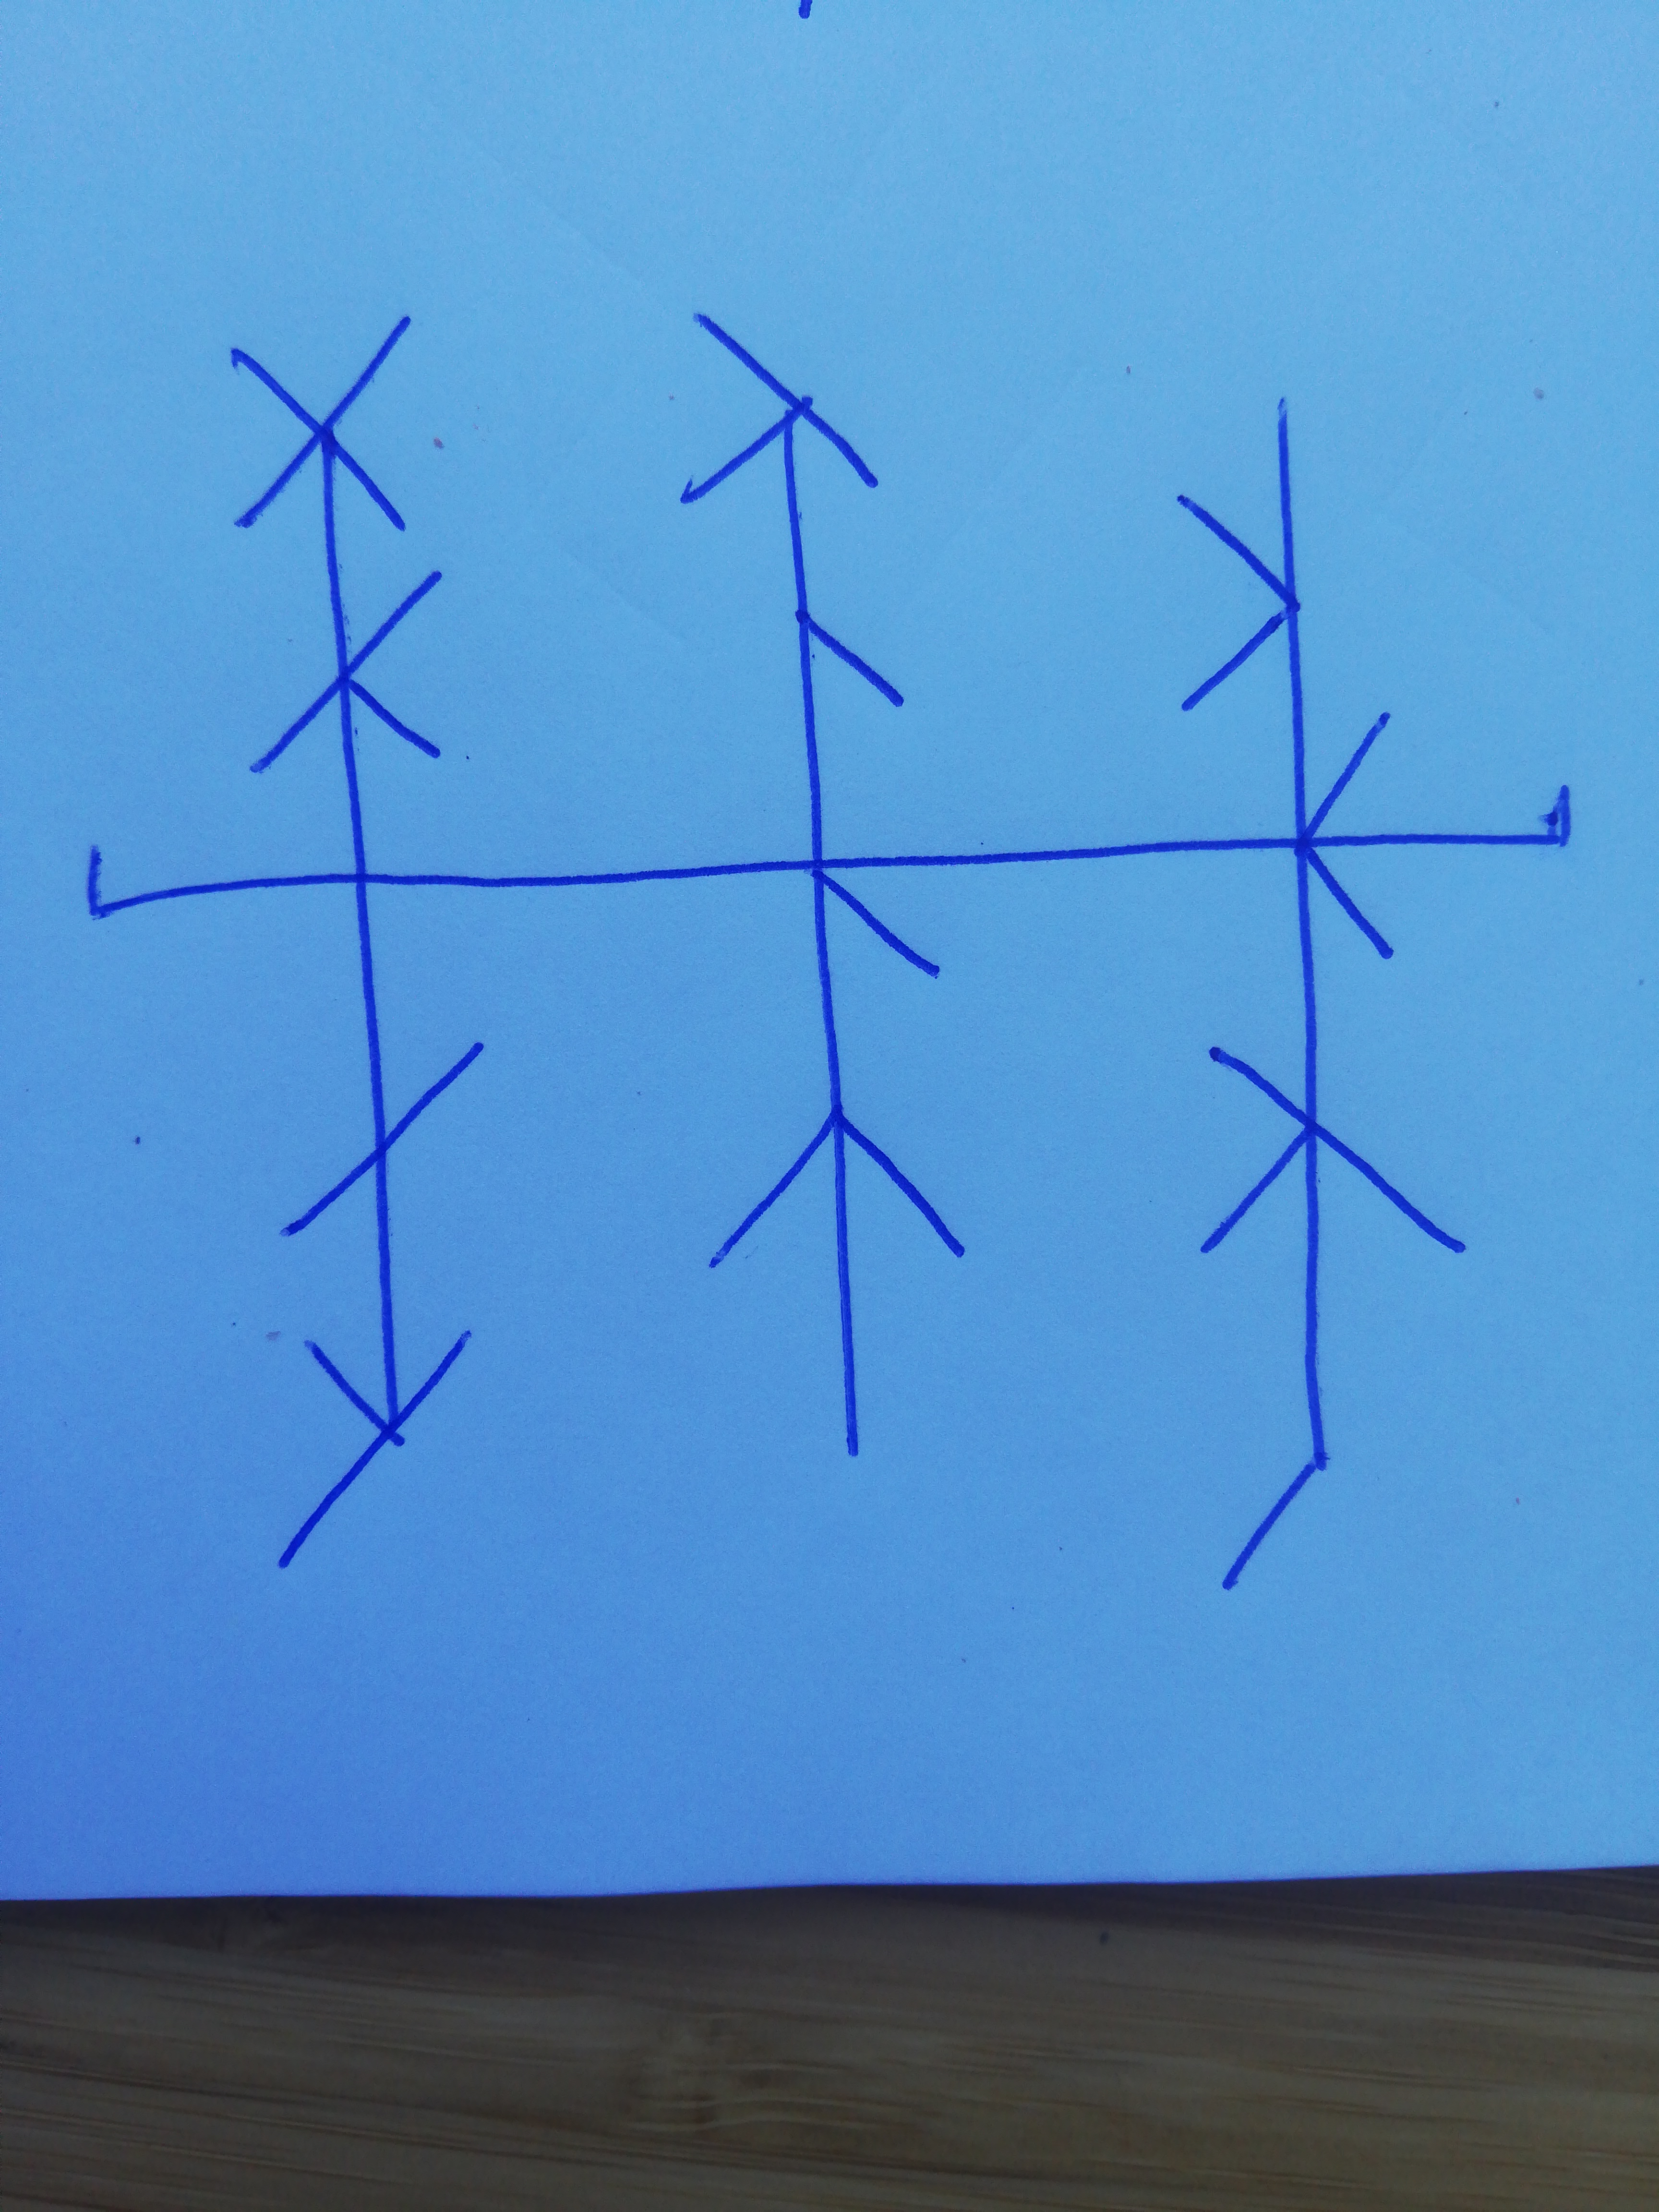Bar: (1178, 399, 1466, 1592), (681, 312, 965, 1458), (228, 315, 486, 1568)
Barcode: (87, 312, 1575, 1590)
End: (1349, 787, 1572, 850)
Start: (89, 846, 352, 923)
